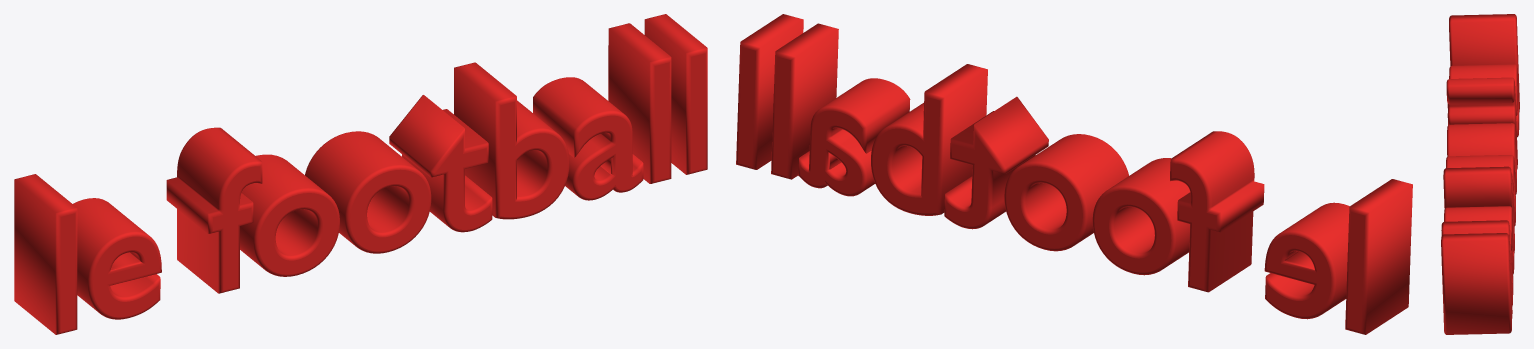
The picture shows the model from 3 angles, left to right: view 1: azimuth 30°, elevation 25°; view 2: azimuth 150°, elevation 25°; view 3: azimuth 270°, elevation 25°; orthographic projection. The views are drawn at different scales.
Parts seen in each view (by area): view 1: Text; view 2: Text; view 3: Text.
Boxes of the visible parts, x1,y1,x2,y2 form: Text: [14, 14, 707, 334]; Text: [736, 14, 1412, 334]; Text: [1441, 14, 1519, 334].
Bounding box in the file's own units: 3.96 × 0.8058 × 0.5585.
